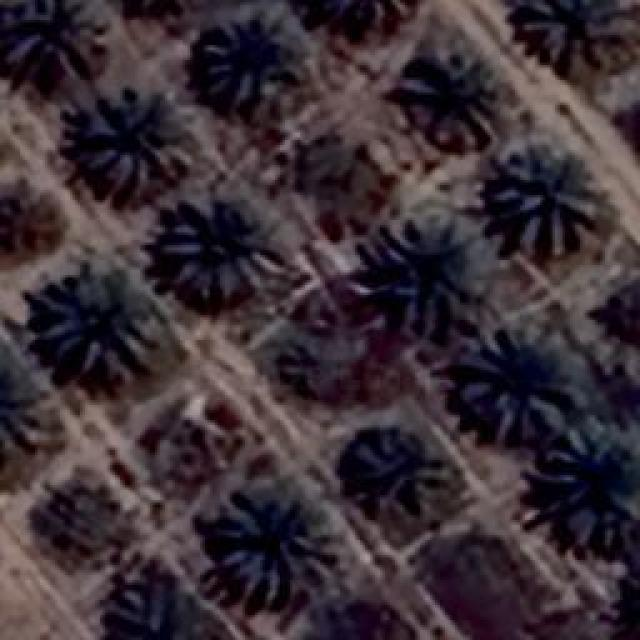PalmTree: (210, 490, 340, 605), (80, 80, 198, 200), (455, 327, 575, 445), (266, 290, 380, 413), (38, 258, 152, 380), (160, 190, 278, 302), (488, 142, 600, 255), (370, 228, 482, 340), (395, 42, 500, 148), (544, 414, 638, 528), (195, 18, 308, 108), (520, 0, 638, 70), (40, 484, 136, 570), (356, 428, 442, 518), (2, 0, 107, 72), (102, 572, 200, 640), (0, 170, 61, 266), (278, 596, 408, 640), (296, 0, 424, 44), (0, 344, 40, 456), (123, 0, 215, 25)
